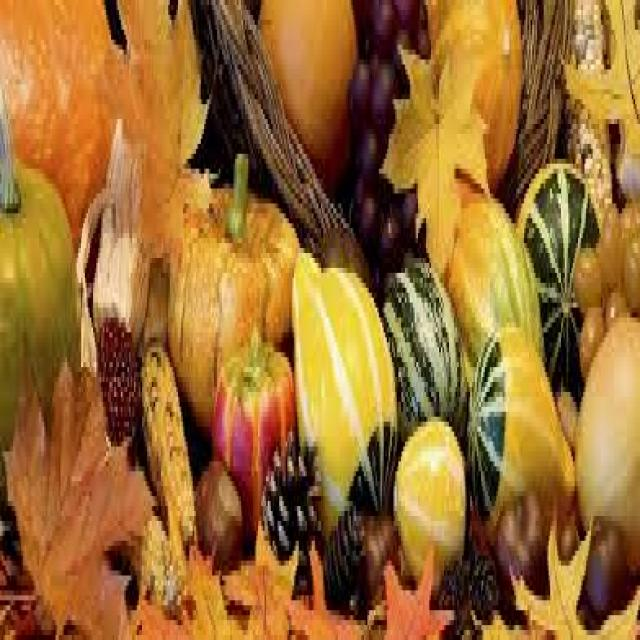organic waste: (2, 352, 150, 635), (165, 149, 300, 422), (0, 89, 77, 506), (291, 238, 394, 541), (101, 0, 214, 253), (465, 318, 575, 570), (0, 0, 101, 268), (376, 30, 488, 268), (516, 154, 599, 392), (256, 0, 356, 189), (572, 302, 638, 580), (506, 501, 638, 635), (428, 0, 521, 189), (210, 317, 290, 536), (448, 194, 540, 372), (378, 253, 464, 442), (392, 412, 465, 590), (558, 0, 638, 149), (508, 496, 591, 635), (92, 114, 144, 328), (139, 332, 189, 546), (256, 422, 318, 585), (565, 0, 610, 208), (221, 521, 297, 635), (286, 536, 358, 635), (384, 541, 449, 635), (75, 189, 108, 352), (0, 531, 49, 635), (194, 452, 240, 560), (96, 313, 136, 437), (583, 511, 628, 610), (323, 501, 361, 605), (183, 541, 222, 635), (495, 501, 534, 590), (315, 213, 367, 278), (474, 595, 544, 635), (596, 585, 638, 635), (598, 193, 622, 278), (369, 45, 398, 114), (472, 605, 534, 635), (518, 486, 548, 546), (612, 124, 638, 184), (578, 303, 602, 367), (554, 382, 576, 451), (573, 243, 598, 303), (555, 501, 576, 561), (359, 0, 390, 40), (624, 223, 638, 308), (349, 55, 369, 114), (392, 0, 418, 45), (359, 124, 377, 184), (395, 179, 415, 233), (376, 194, 395, 243), (602, 283, 624, 322), (351, 194, 371, 228), (620, 194, 638, 228)
